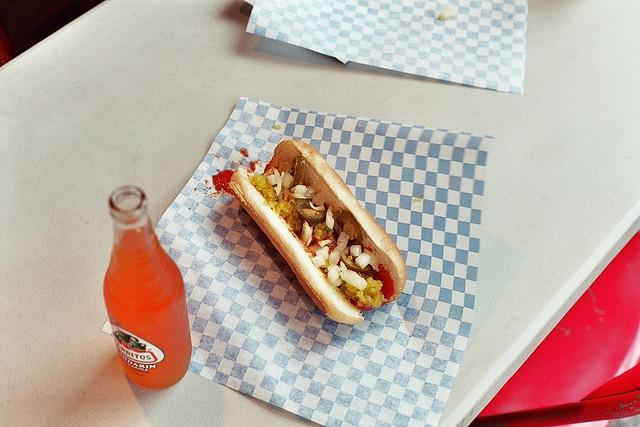onion: (340, 269, 368, 291), (310, 242, 330, 260), (364, 248, 379, 272), (274, 169, 285, 196), (438, 6, 457, 20), (354, 253, 370, 269), (337, 231, 350, 248), (326, 206, 334, 231), (312, 254, 326, 268), (327, 268, 340, 283), (328, 252, 341, 266), (308, 201, 324, 211), (314, 190, 325, 204), (350, 245, 362, 257), (266, 174, 278, 186), (305, 186, 317, 198), (318, 239, 333, 248), (294, 184, 307, 194), (338, 261, 348, 271), (322, 222, 332, 231), (255, 164, 262, 172), (312, 250, 316, 258)
